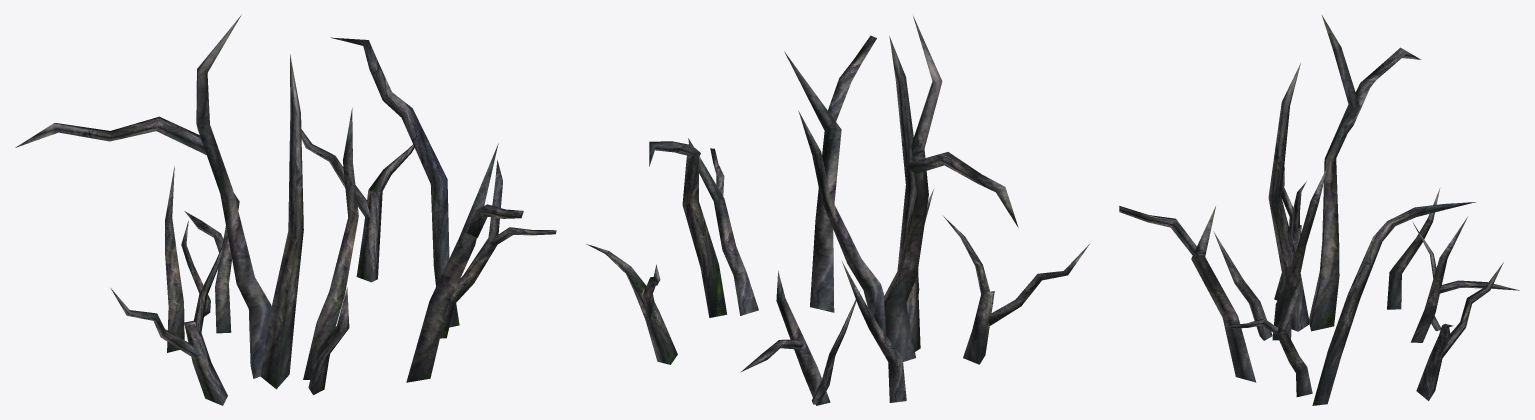
File: Yland2_sg_02 Yland2.FBX
3 views of the same model, side by side, from view 1: azimuth 30°, elevation 25°; view 2: azimuth 150°, elevation 25°; view 3: azimuth 270°, elevation 25° (orthographic). The views are drawn at different scales.
Visible parts, largest first — view 1: Yland2_sg_02 Yland2; view 2: Yland2_sg_02 Yland2; view 3: Yland2_sg_02 Yland2.
Boxes of the visible parts, box(x1,y1,x2,y2) form: Yland2_sg_02 Yland2: box(15, 14, 556, 405); Yland2_sg_02 Yland2: box(586, 16, 1089, 405); Yland2_sg_02 Yland2: box(1119, 15, 1519, 405).
Size of the model in its own units: 18.5 by 15.18 by 17.66.
